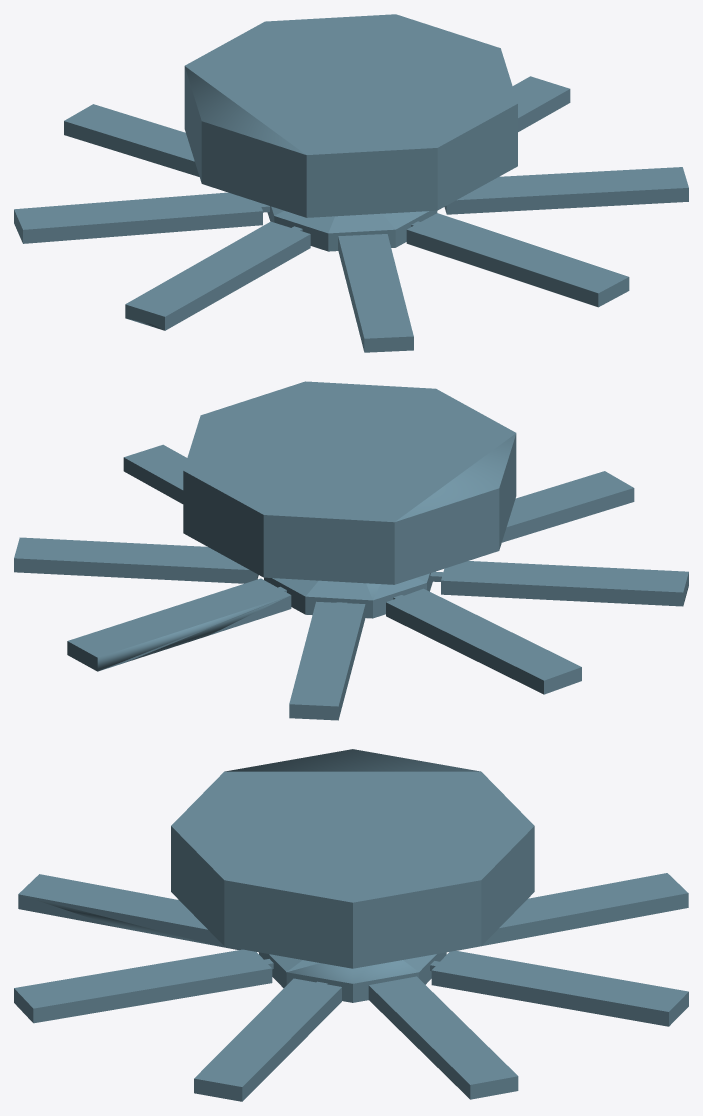
Rendered from ceiling_fan.glb.
3 renders of one model, top to bottom at view 1: azimuth 30°, elevation 25°; view 2: azimuth 150°, elevation 25°; view 3: azimuth 270°, elevation 25°, orthographic. The views are drawn at different scales.
Visible parts, largest first — view 1: ceiling_fan_base, ceiling_fan; view 2: ceiling_fan_base, ceiling_fan; view 3: ceiling_fan_base, ceiling_fan.
Part boxes in pixels (box(x1,y1,x2,y2)): ceiling_fan_base: box(184, 14, 517, 217); ceiling_fan: box(14, 76, 688, 352); ceiling_fan_base: box(183, 381, 516, 584); ceiling_fan: box(14, 444, 688, 720); ceiling_fan_base: box(171, 749, 534, 968); ceiling_fan: box(14, 873, 688, 1101).
Bounding box in the file's own units: 3.4 × 0.7983 × 3.38.
